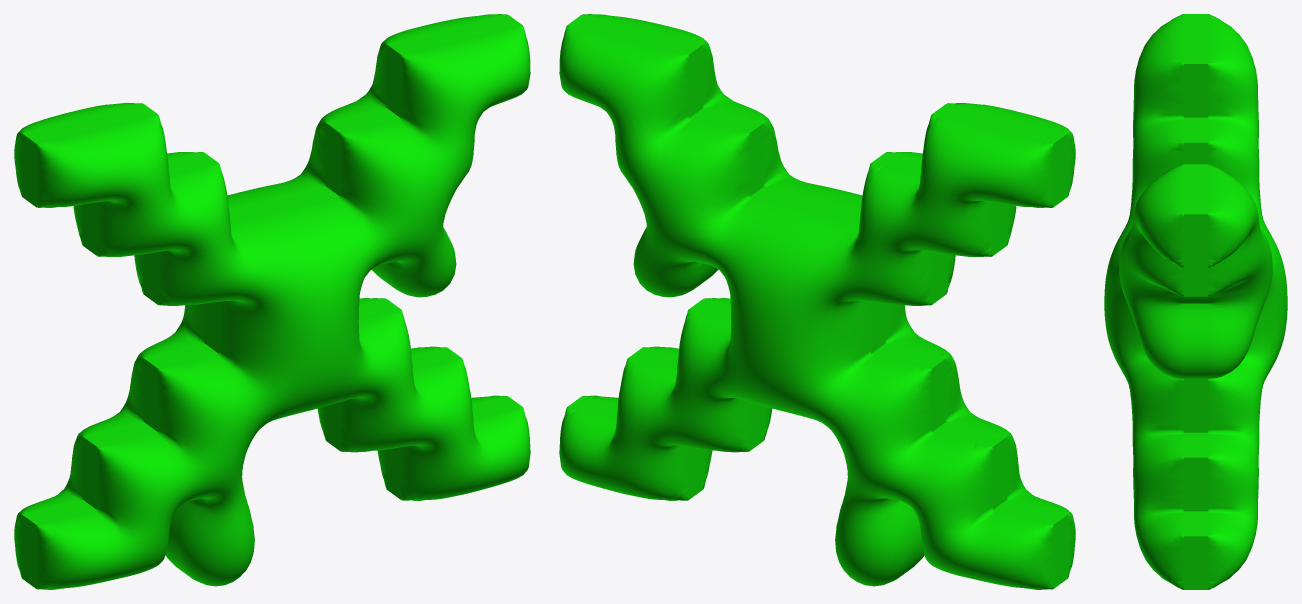
The model's file is X-SNOT.glb.
3 renders of one model, left to right at view 1: azimuth 30°, elevation 25°; view 2: azimuth 150°, elevation 25°; view 3: azimuth 270°, elevation 25°, orthographic. The views are drawn at different scales.
Visible parts, largest first — view 1: Mesh_0.007; view 2: Mesh_0.007; view 3: Mesh_0.007.
Boxes of the visible parts, x1,y1,x2,y2 form: Mesh_0.007: [14, 14, 530, 589]; Mesh_0.007: [559, 14, 1075, 589]; Mesh_0.007: [1104, 14, 1287, 589].
Bounding box in the file's own units: 0.024 × 0.0227 × 0.00928.
